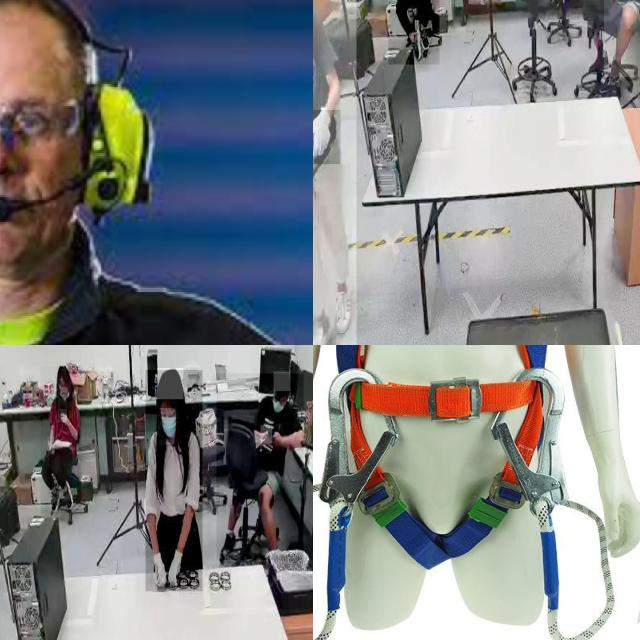Ear-protection: (0, 0, 157, 289)
Harness: (321, 345, 564, 591)
face_mask: (158, 408, 178, 445)
hand_glove: (313, 110, 340, 164), (152, 547, 168, 597), (170, 547, 184, 590)
hand_noglove: (260, 425, 272, 445), (270, 429, 282, 448), (48, 437, 56, 455), (58, 409, 68, 423)
head_nohelmet: (157, 368, 184, 400), (273, 372, 291, 392), (56, 364, 70, 378)
person: (216, 373, 304, 561), (313, 0, 356, 345), (145, 370, 203, 592), (40, 366, 82, 515), (388, 0, 439, 65), (603, 0, 640, 78)
shoes: (332, 278, 355, 336), (313, 310, 332, 345), (220, 526, 237, 560), (47, 482, 61, 514), (61, 481, 74, 509), (412, 29, 422, 62), (418, 25, 430, 51)
